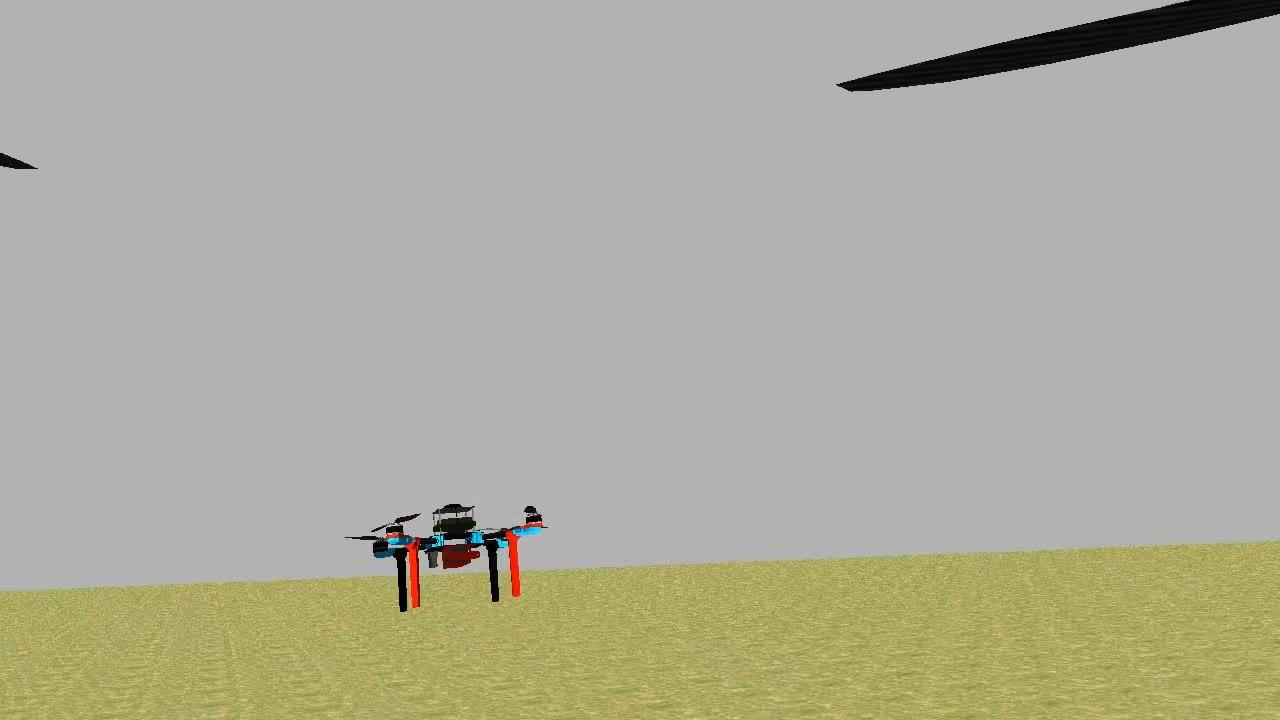UAV: (363, 494, 553, 624)
